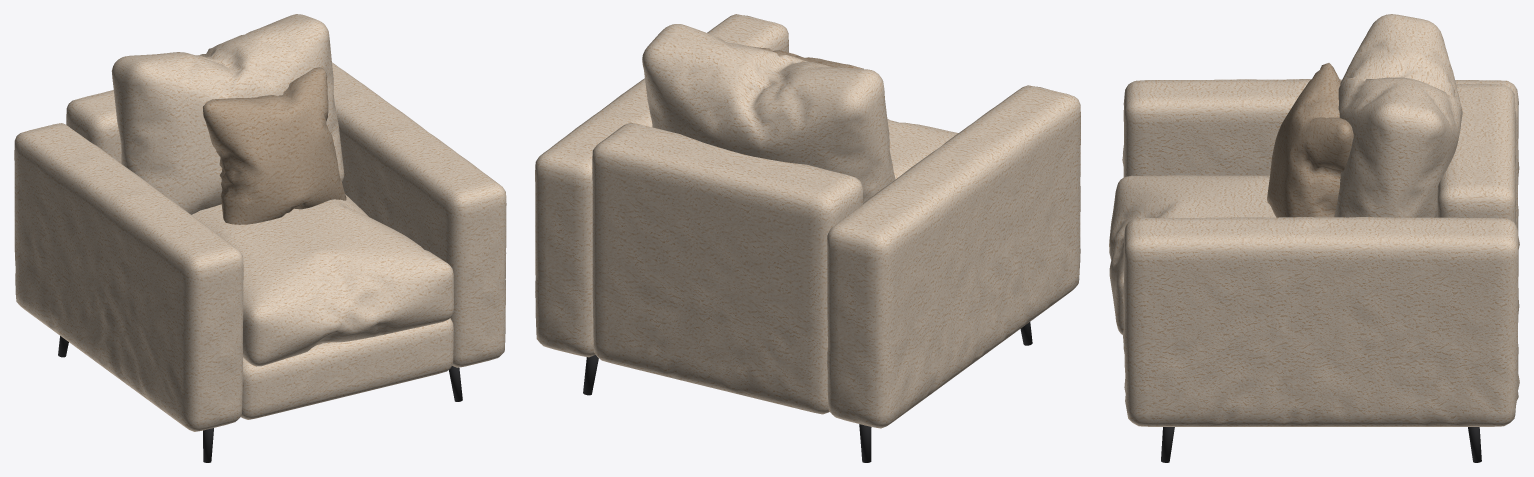
The model's file is canopee_fauteuil.gltf.
The picture shows the model from 3 angles, left to right: view 1: azimuth 30°, elevation 25°; view 2: azimuth 150°, elevation 25°; view 3: azimuth 270°, elevation 25°; orthographic projection. The views are drawn at different scales.
Visible parts, largest first — view 1: canopee_fauteuil; view 2: canopee_fauteuil; view 3: canopee_fauteuil.
Boxes of the visible parts, bbox=[...] form: canopee_fauteuil: bbox=[14, 14, 506, 462]; canopee_fauteuil: bbox=[535, 14, 1080, 462]; canopee_fauteuil: bbox=[1109, 14, 1519, 462].
Bounding box in the file's own units: 0.9922 × 0.9207 × 1.02.
Materials: 4 (2 with a texture image).
